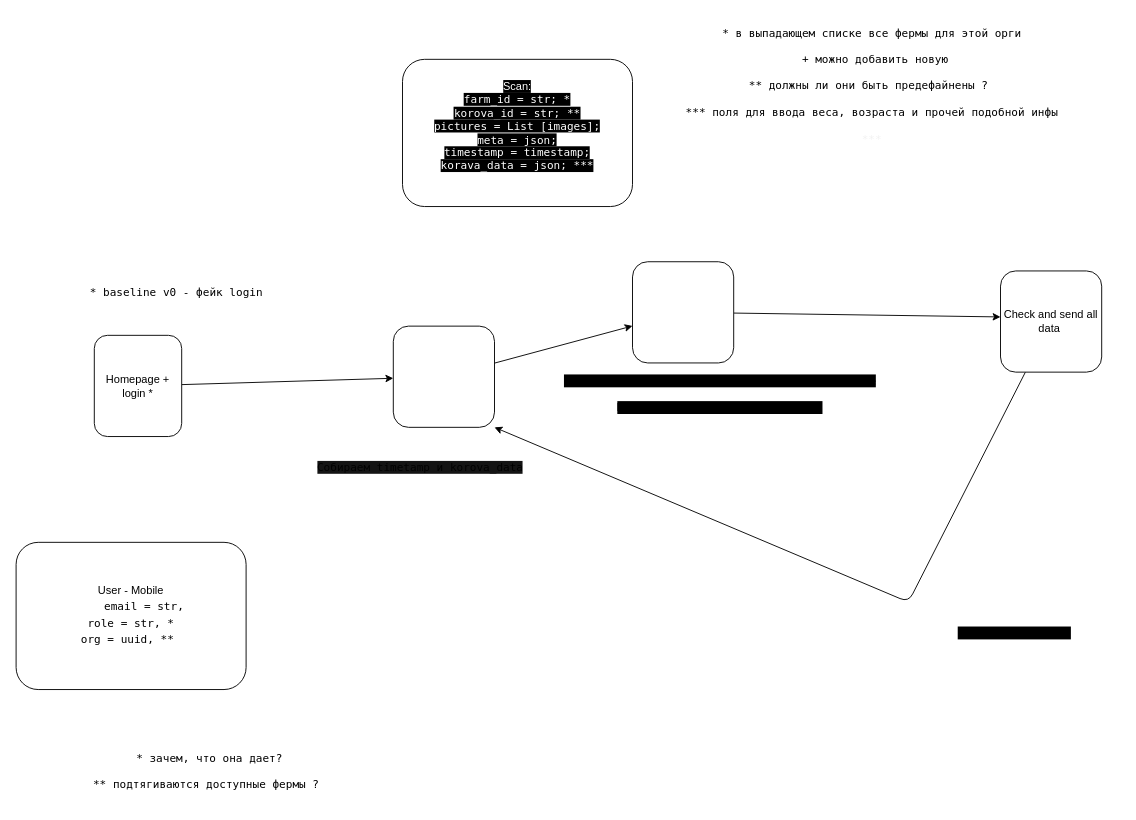
This 1136x820 diagram has some shape labels left out. Here are the shapes that lost their labels. From the top down, the centre of each, then its label:
At [683,312]: "Pictures loop".
At [443,376]: "Form scan".
